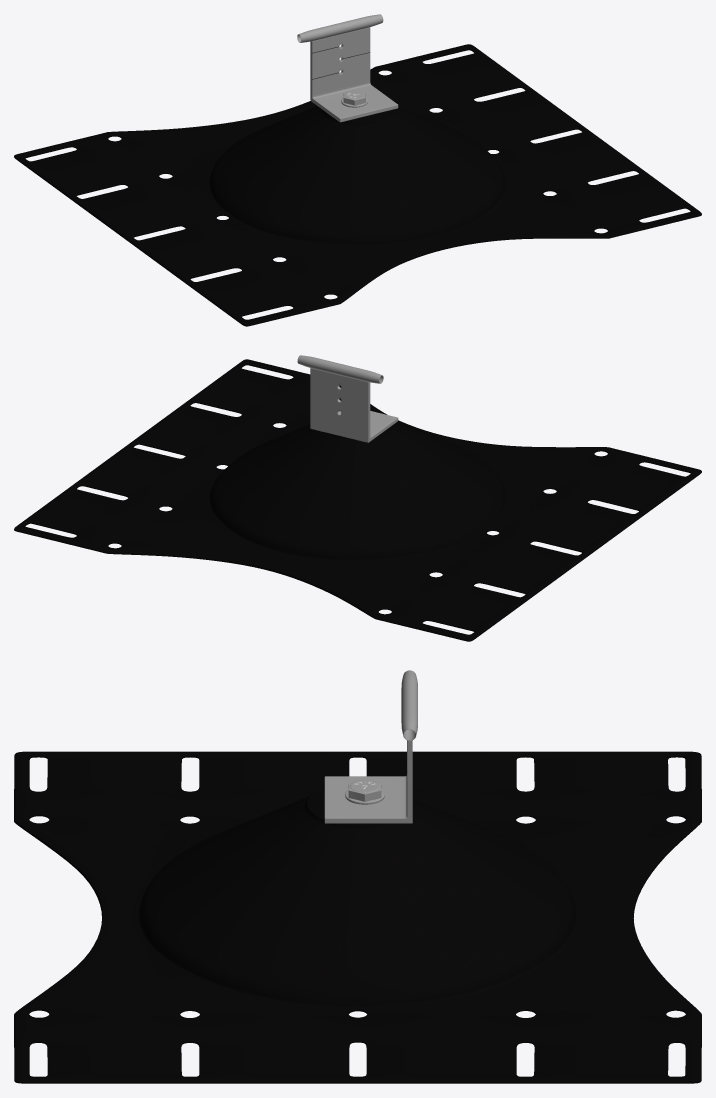
The picture shows the model from 3 angles, top to bottom: view 1: azimuth 30°, elevation 25°; view 2: azimuth 150°, elevation 25°; view 3: azimuth 270°, elevation 25°; orthographic projection. The views are drawn at different scales.
Parts seen in each view (by area): view 1: Base_plate, angle1, top_pipe; view 2: Base_plate, angle1, top_pipe; view 3: Base_plate, angle1, top_pipe, nut2.
Part boxes in pixels (x1,y1,x2,y2): Base_plate: [14, 44, 701, 326]; angle1: [310, 27, 398, 122]; top_pipe: [297, 14, 383, 42]; Base_plate: [14, 359, 701, 641]; angle1: [310, 368, 398, 442]; top_pipe: [297, 355, 383, 383]; Base_plate: [14, 751, 701, 1083]; angle1: [324, 740, 412, 823]; top_pipe: [401, 670, 417, 740]; nut2: [348, 778, 381, 801].
Size of the model in its own units: 9.25 by 2.88 by 8.15.
1 material, 1 textured.
